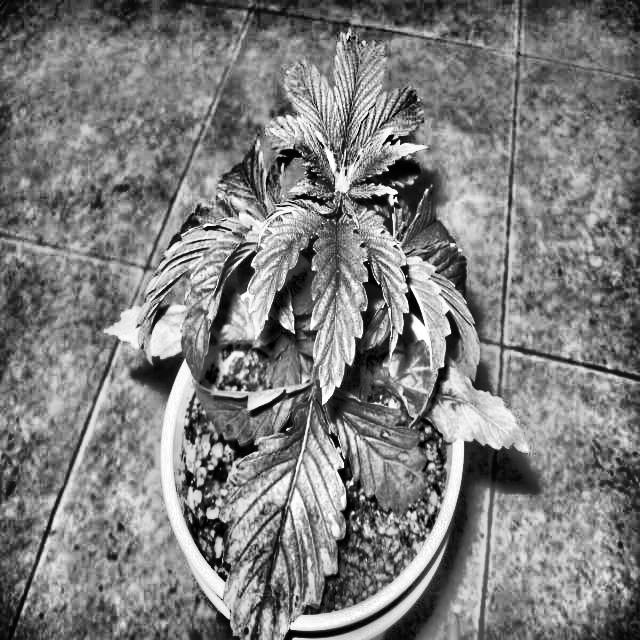plants: (98, 29, 532, 640), (215, 378, 415, 614), (415, 338, 530, 464), (106, 292, 224, 374)
